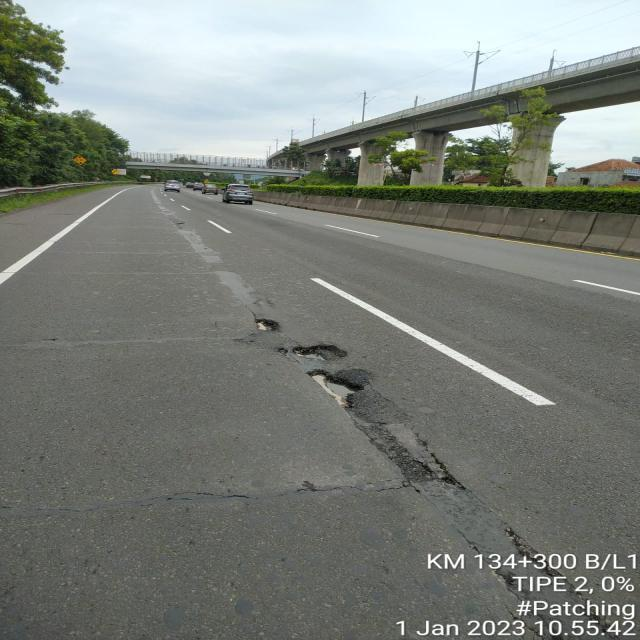Buraco: (302, 367, 368, 410), (290, 343, 350, 363), (252, 317, 282, 334), (275, 346, 289, 358)
